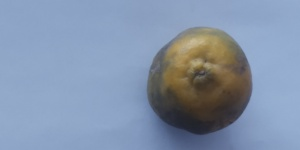BAD: (144, 24, 255, 138)
